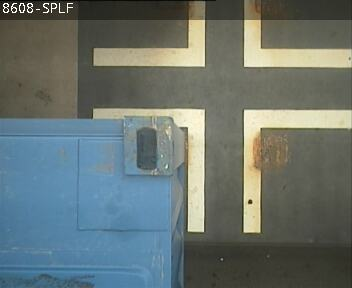groundmarker_1: (92, 108, 352, 233), (93, 1, 352, 68)
